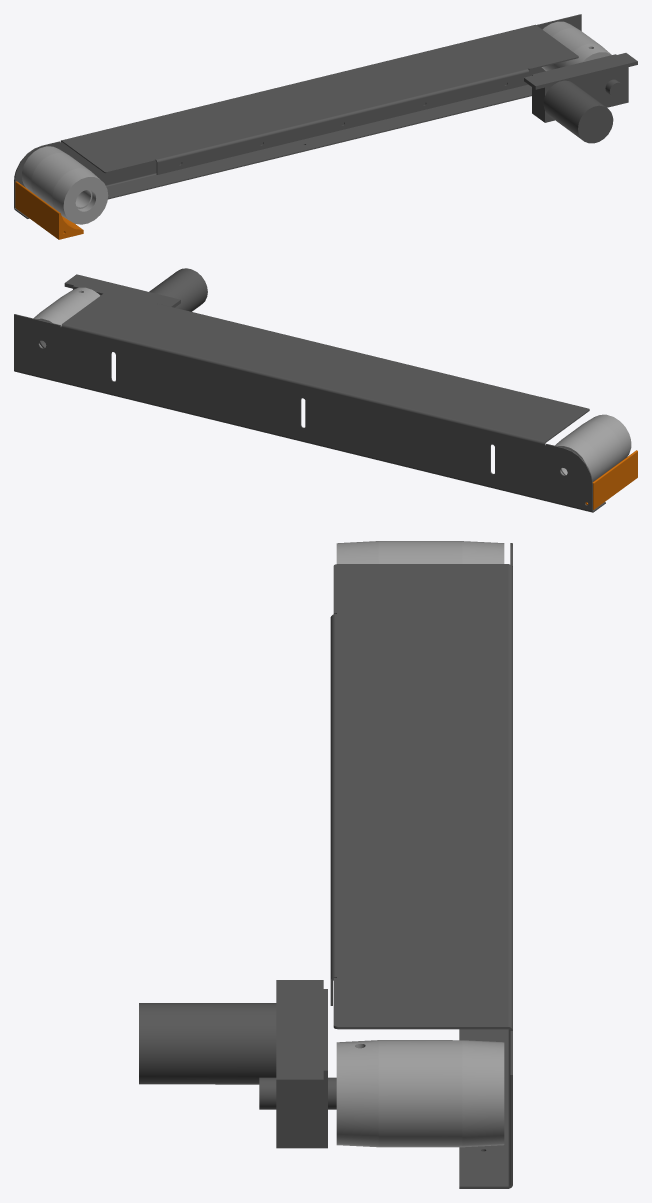
Rendered from Body_Conveyor.FBX.
3 renders of one model, top to bottom at view 1: azimuth 30°, elevation 25°; view 2: azimuth 150°, elevation 25°; view 3: azimuth 270°, elevation 25°, orthographic. The views are drawn at different scales.
Visible parts, largest first — view 1: Body_Conveyor; view 2: Body_Conveyor; view 3: Body_Conveyor.
Part boxes in pixels (x1,y1,x2,y2): Body_Conveyor: (14, 14, 637, 239); Body_Conveyor: (14, 268, 637, 512); Body_Conveyor: (139, 541, 512, 1188).
Bounding box in the file's own units: 61 × 17.42 × 6.
